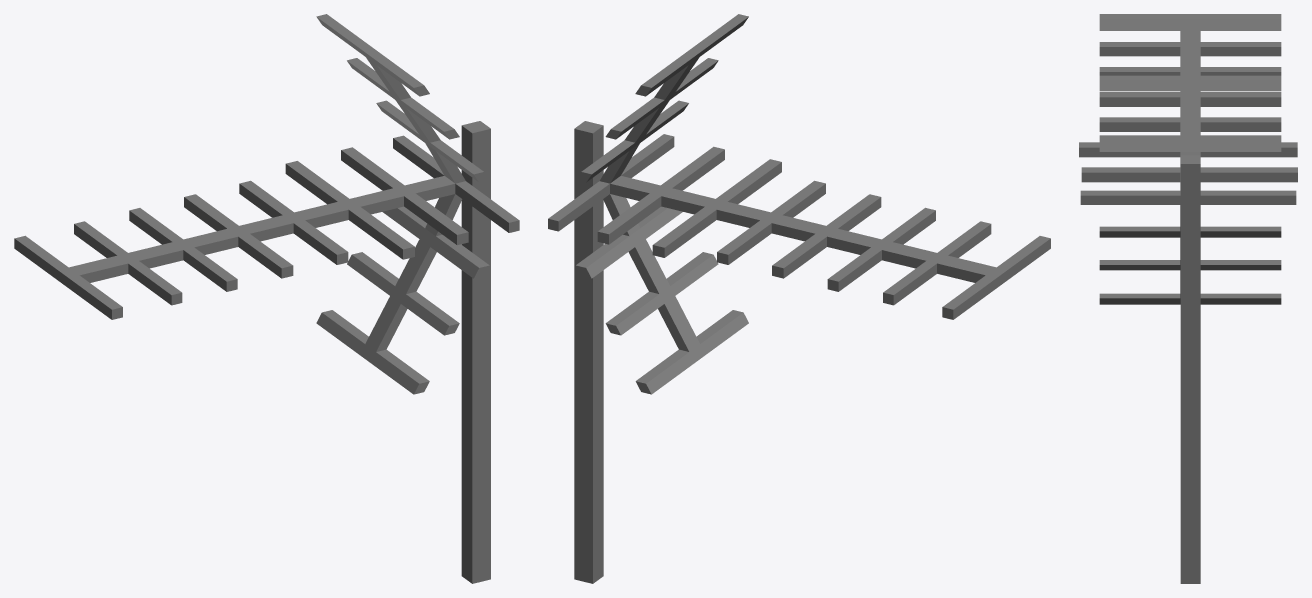
Rendered from tv_antenna.fbx.
The picture shows the model from 3 angles, left to right: view 1: azimuth 30°, elevation 25°; view 2: azimuth 150°, elevation 25°; view 3: azimuth 270°, elevation 25°; orthographic projection. The views are drawn at different scales.
Parts seen in each view (by area): view 1: tv_antenna; view 2: tv_antenna; view 3: tv_antenna.
Boxes of the visible parts, x1=… form: tv_antenna: x1=14, y1=14, x2=519, y2=583; tv_antenna: x1=548, y1=14, x2=1050, y2=583; tv_antenna: x1=1079, y1=14, x2=1297, y2=583.
Bounding box in the file's own units: 225 × 281 × 108.
1 material, 1 textured.
